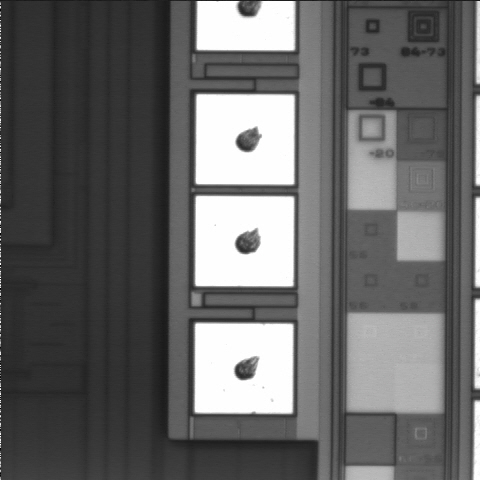pad: (196, 94, 294, 185), (195, 323, 293, 414), (195, 196, 294, 286)
